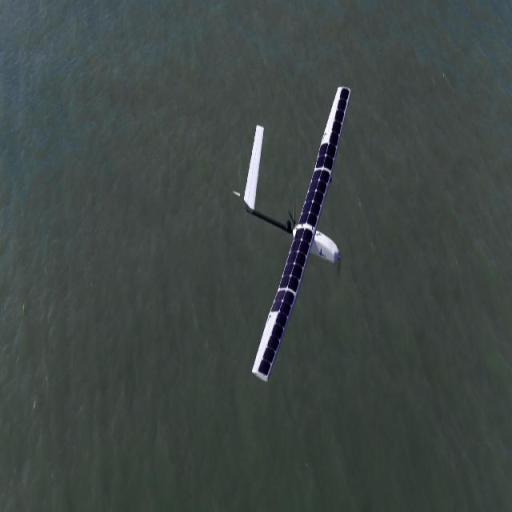uav: (236, 76, 351, 394)
